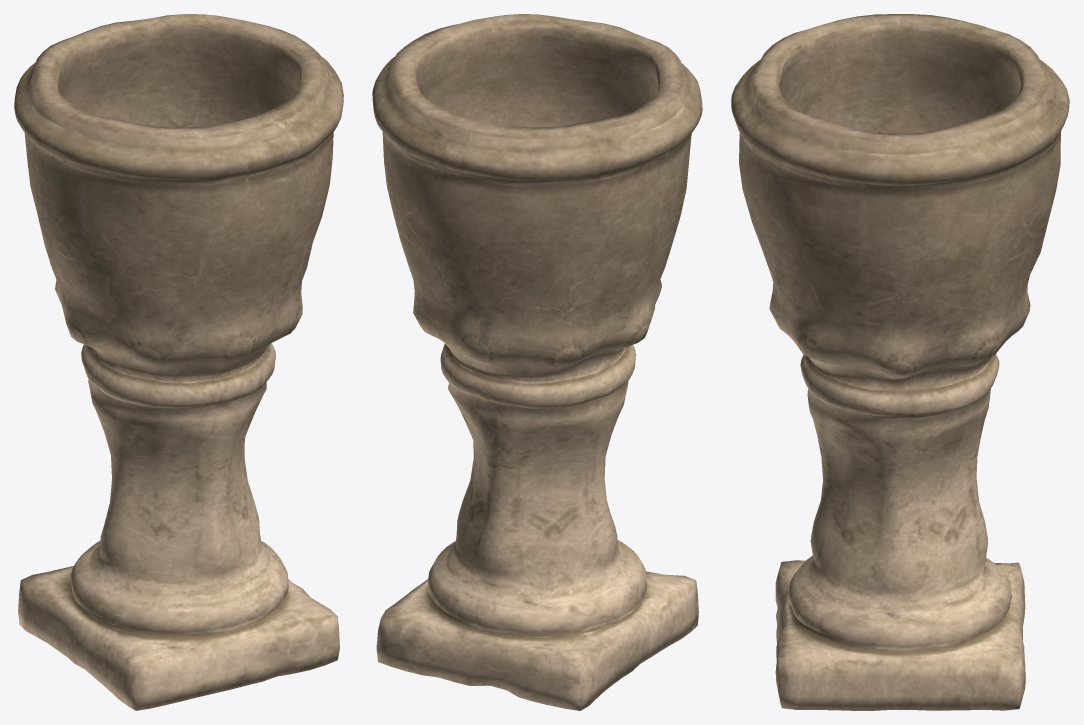
Rendered from old_greek_style_flower_pot_780b126b.glb.
3 views of the same model, side by side, from view 1: azimuth 30°, elevation 25°; view 2: azimuth 150°, elevation 25°; view 3: azimuth 270°, elevation 25° (orthographic). The views are drawn at different scales.
Visible parts, largest first — view 1: old_greek_style_flower_pot_780b126b; view 2: old_greek_style_flower_pot_780b126b; view 3: old_greek_style_flower_pot_780b126b.
Boxes of the visible parts, bbox=[...] form: old_greek_style_flower_pot_780b126b: bbox=[14, 14, 343, 710]; old_greek_style_flower_pot_780b126b: bbox=[372, 14, 702, 710]; old_greek_style_flower_pot_780b126b: bbox=[731, 14, 1069, 710].
Size of the model in its own units: 0.4804 by 0.9049 by 0.4716.
1 material, 1 textured.
